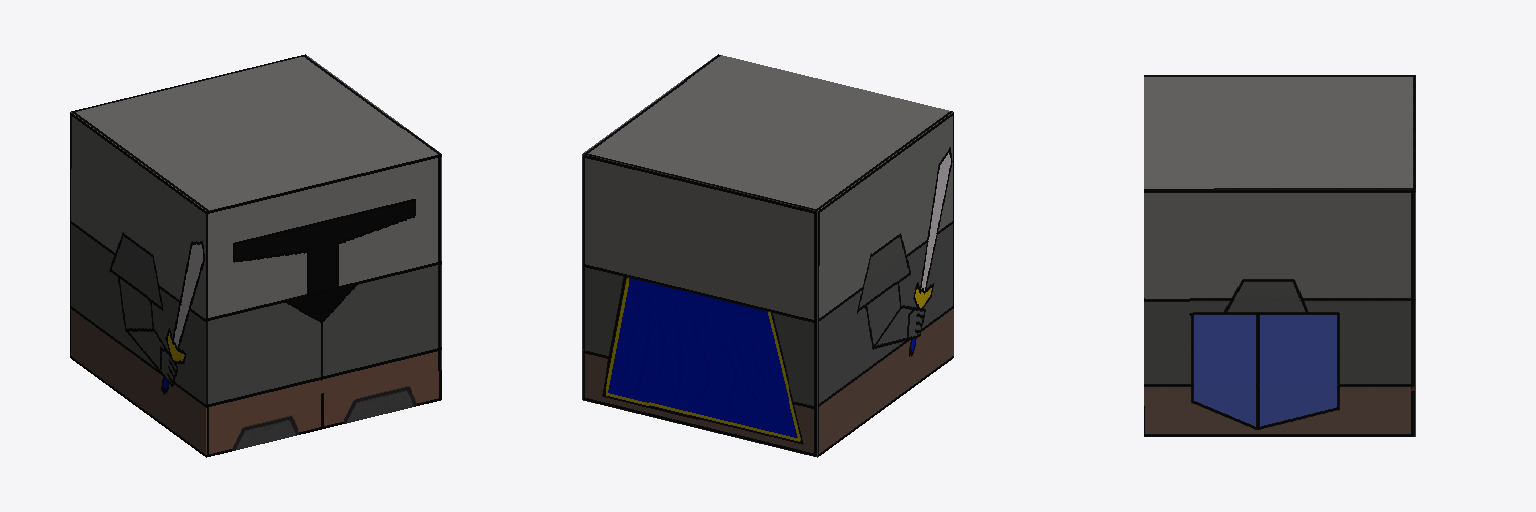
3 renders of one model, left to right at view 1: azimuth 30°, elevation 25°; view 2: azimuth 150°, elevation 25°; view 3: azimuth 270°, elevation 25°, orthographic.
Visible parts, largest first — view 1: Cube; view 2: Cube; view 3: Cube.
Part boxes in pixels (left/top/right/bottom): Cube: left=70, top=54, right=441, bottom=457; Cube: left=582, top=54, right=953, bottom=457; Cube: left=1144, top=75, right=1415, bottom=436.
Bounding box in the file's own units: 2 × 2 × 2.
Materials: 1 (1 with a texture image).